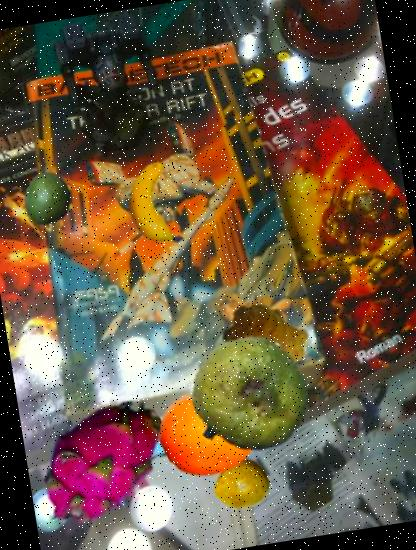Banana: (113, 156, 206, 248)
Ginger: (203, 297, 322, 416)
Guava: (209, 453, 274, 518)
Lemon: (153, 370, 273, 490)
Limes: (182, 328, 318, 464)
Mango: (15, 167, 80, 232)
Pitahaya: (18, 378, 184, 544)
